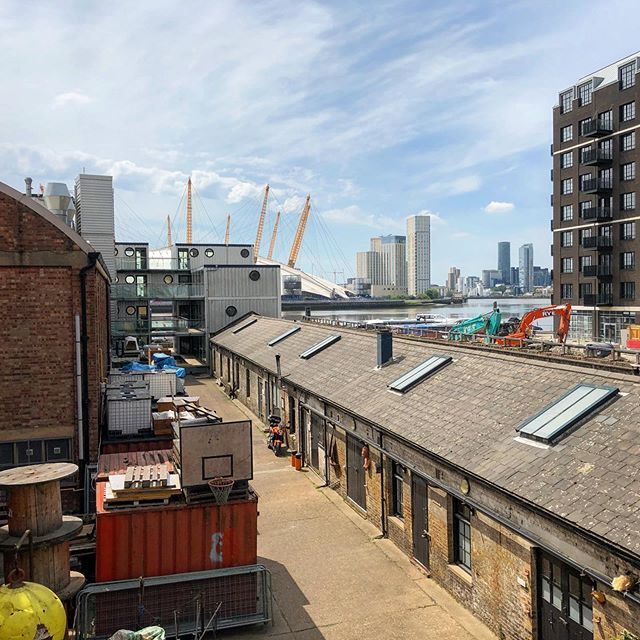building: (208, 316, 640, 640), (551, 60, 640, 322), (106, 250, 283, 368), (67, 167, 118, 282), (354, 230, 405, 297), (489, 230, 540, 297), (405, 212, 433, 296)
excavator: (492, 297, 586, 360), (440, 310, 510, 343)
sky: (1, 1, 542, 249)
